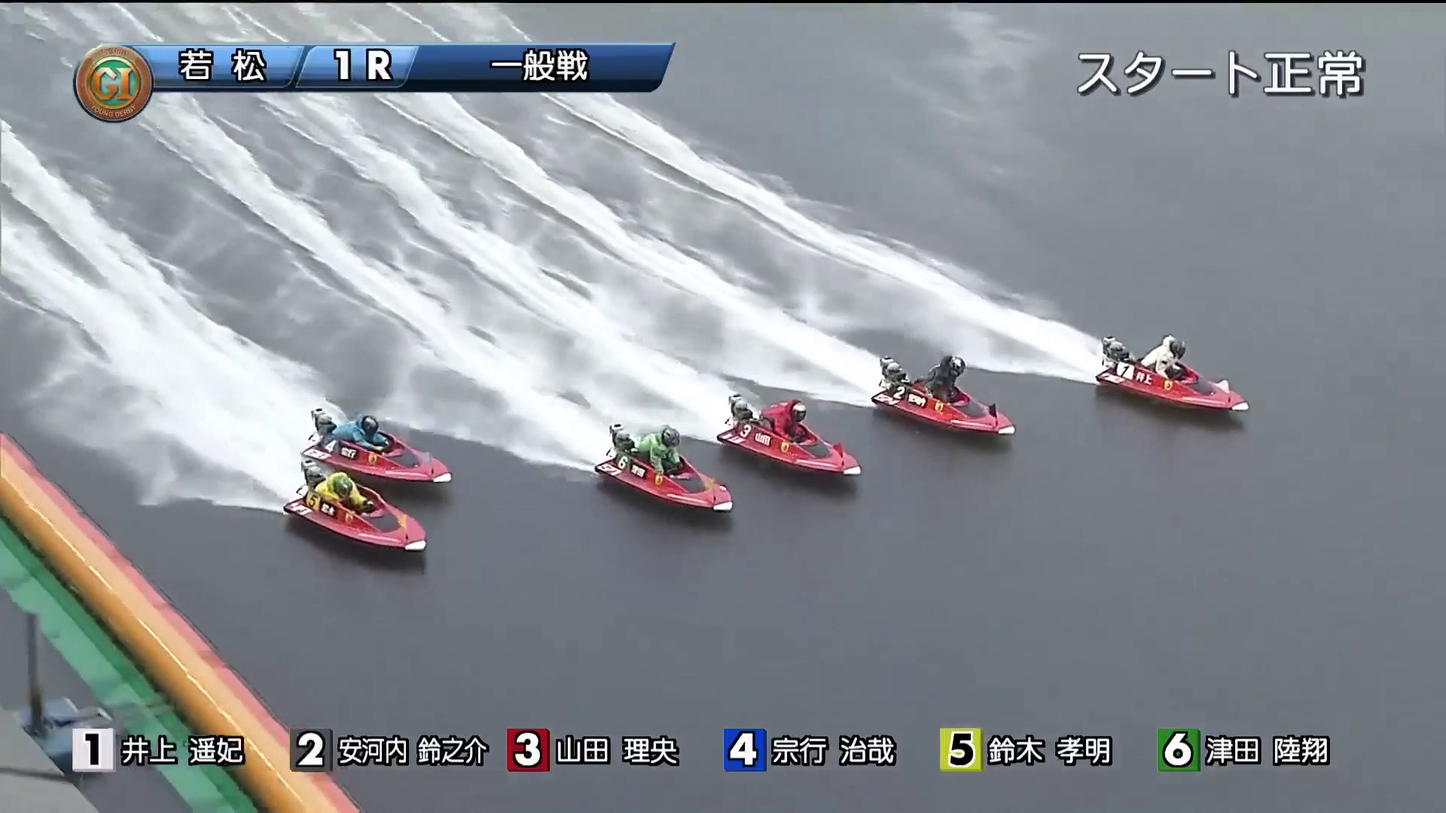１号艇: (1110, 348, 1241, 399)
２号艇: (888, 365, 1011, 422)
３号艇: (749, 425, 883, 467)
４号艇: (621, 454, 739, 516)
５号艇: (332, 430, 455, 485)
６号艇: (339, 514, 439, 571)
